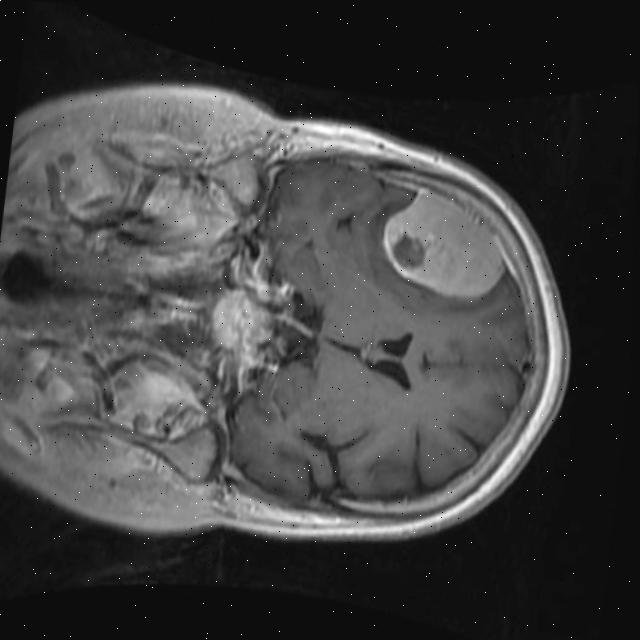Meningioma: (364, 177, 522, 307)
